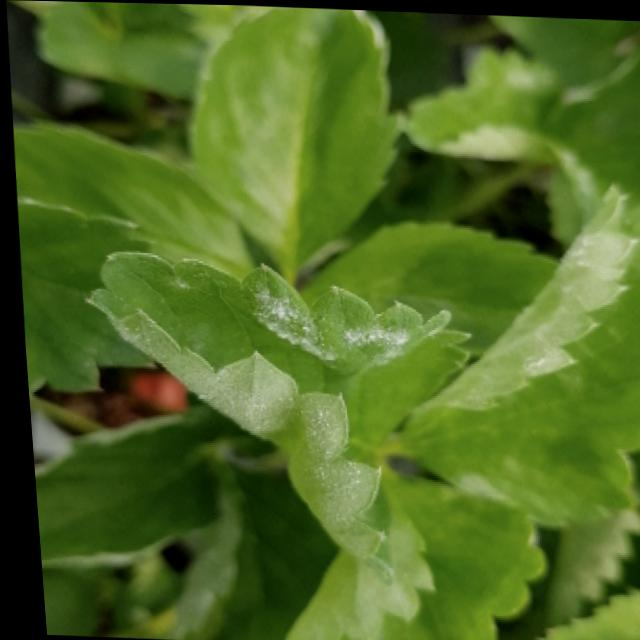Powdery Mildew Leaf: (81, 247, 467, 582), (385, 179, 640, 525)
